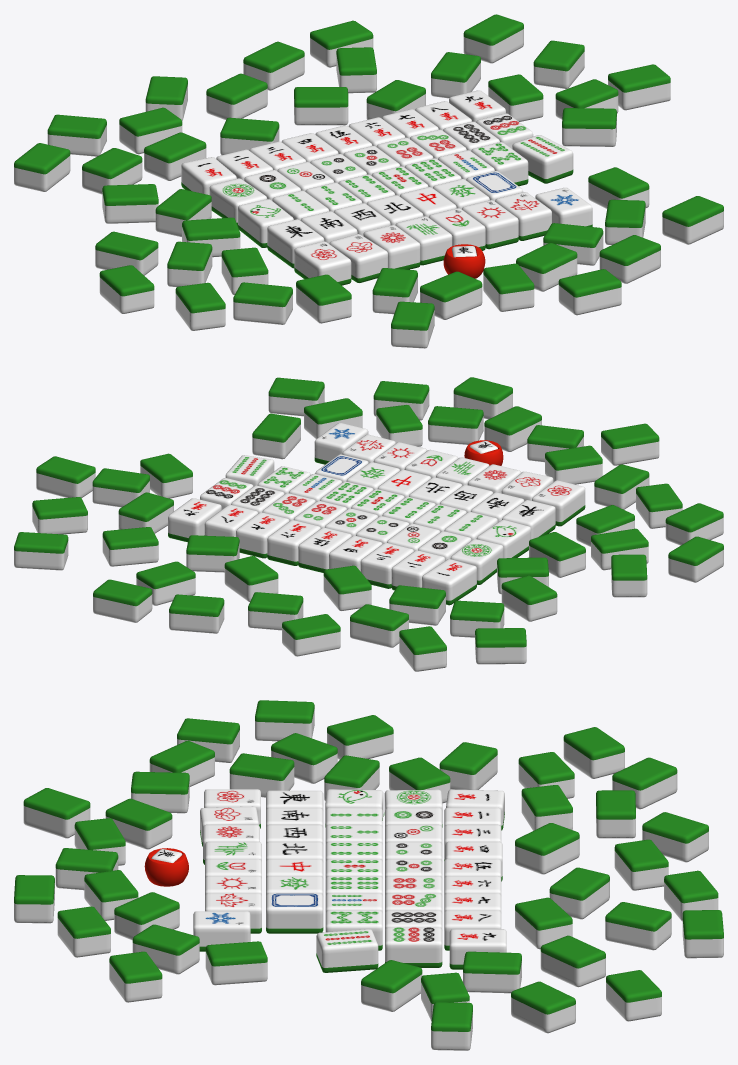
The model's file is CardPieces.glb.
3 renders of one model, top to bottom at view 1: azimuth 30°, elevation 25°; view 2: azimuth 150°, elevation 25°; view 3: azimuth 270°, elevation 25°, orthographic. The views are drawn at different scales.
Parts seen in each view (by area): view 1: Mahjong.060, Mahjong.057, Mahjong.065, Mahjong.070, Mahjong.050, Mahjong.045, Mahjong.058, Mahjong.052, Mahjong.075, Mahjong.053, Mahjong.074, Mahjong.055 (+72 smaller); view 2: Mahjong.054, Mahjong.061, Mahjong.079, Mahjong.058, Mahjong.049, Mahjong.055, Mahjong.063, Mahjong.066, Mahjong.050, Mahjong.069, Mahjong.044, Mahjong.056 (+72 smaller); view 3: Mahjong.071, Mahjong.049, Mahjong.056, Mahjong.077, Mahjong.018, Mahjong.062, Mahjong.061, Mahjong.075, Mahjong.074, Mahjong.079, Mahjong.034, Mahjong.046 (+72 smaller).
Part boxes in pixels (left/top/right/bottom): Mahjong.060: left=558, top=269, right=621, bottom=315; Mahjong.057: left=662, top=196, right=723, bottom=244; Mahjong.065: left=233, top=282, right=292, bottom=324; Mahjong.070: left=206, top=73, right=267, bottom=119; Mahjong.050: left=463, top=14, right=523, bottom=63; Mahjong.045: left=599, top=235, right=660, bottom=283; Mahjong.058: left=608, top=64, right=670, bottom=110; Mahjong.052: left=420, top=271, right=482, bottom=319; Mahjong.075: left=14, top=143, right=70, bottom=191; Mahjong.053: left=294, top=87, right=348, bottom=125; Mahjong.074: left=562, top=108, right=616, bottom=146; Mahjong.055: left=102, top=184, right=158, bottom=223; Mahjong.054: left=93, top=579, right=152, bottom=622; Mahjong.061: left=601, top=423, right=659, bottom=465; Mahjong.079: left=282, top=614, right=340, bottom=656; Mahjong.058: left=36, top=456, right=95, bottom=497; Mahjong.049: left=102, top=527, right=158, bottom=566; Mahjong.055: left=501, top=575, right=557, bottom=621; Mahjong.063: left=169, top=594, right=224, bottom=633; Mahjong.066: left=668, top=536, right=723, bottom=582; Mahjong.050: left=14, top=532, right=68, bottom=570; Mahjong.069: left=350, top=604, right=408, bottom=647; Mahjong.044: left=428, top=406, right=483, bottom=444; Mahjong.056: left=32, top=497, right=87, bottom=534; Mahjong.071: left=605, top=902, right=671, bottom=950; Mahjong.049: left=540, top=935, right=605, bottom=987; Mahjong.056: left=511, top=981, right=575, bottom=1033; Mahjong.077: left=515, top=823, right=579, bottom=874; Mahjong.018: left=316, top=929, right=378, bottom=972; Mahjong.062: left=205, top=941, right=267, bottom=985; Mahjong.061: left=23, top=788, right=90, bottom=838; Mahjong.075: left=563, top=727, right=624, bottom=778; Mahjong.074: left=361, top=960, right=422, bottom=1011; Mahjong.079: left=642, top=812, right=708, bottom=862; Mahjong.034: left=266, top=893, right=323, bottom=933; Mahjong.046: left=463, top=951, right=521, bottom=993.
Size of the model in its own units: 0.5409 by 0.0202 by 0.4967.
Materials: 7 (5 with a texture image).
